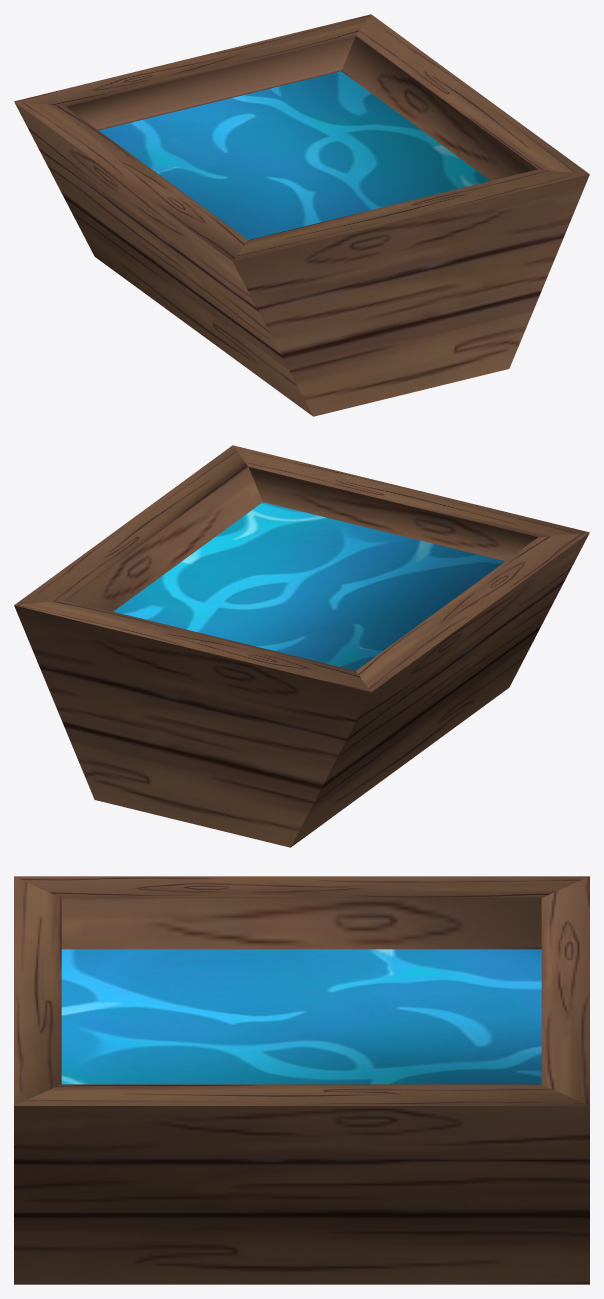
Rendered from ChickenWater.glb.
3 renders of one model, top to bottom at view 1: azimuth 30°, elevation 25°; view 2: azimuth 150°, elevation 25°; view 3: azimuth 270°, elevation 25°, orthographic. The views are drawn at different scales.
Parts seen in each view (by area): view 1: ChickenWater; view 2: ChickenWater; view 3: ChickenWater.
Part boxes in pixels (x1=…): ChickenWater: x1=14, y1=14, x2=589, y2=416; ChickenWater: x1=14, y1=445, x2=589, y2=847; ChickenWater: x1=14, y1=876, x2=589, y2=1284.
Size of what is drawn, in the model's own units: 1.32 by 0.6196 by 1.4.
Materials: 1 (1 with a texture image).
